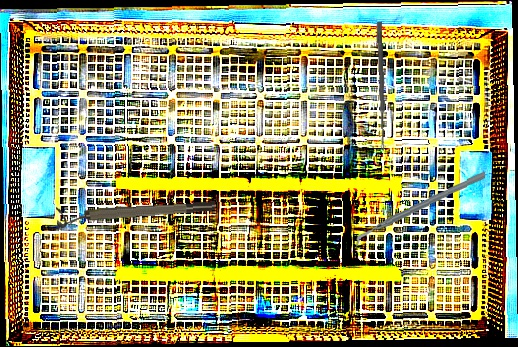Chopper: (351, 171, 489, 248)
Fixation Ring: (56, 198, 216, 229)
Surgical Spoon: (375, 21, 387, 151)
